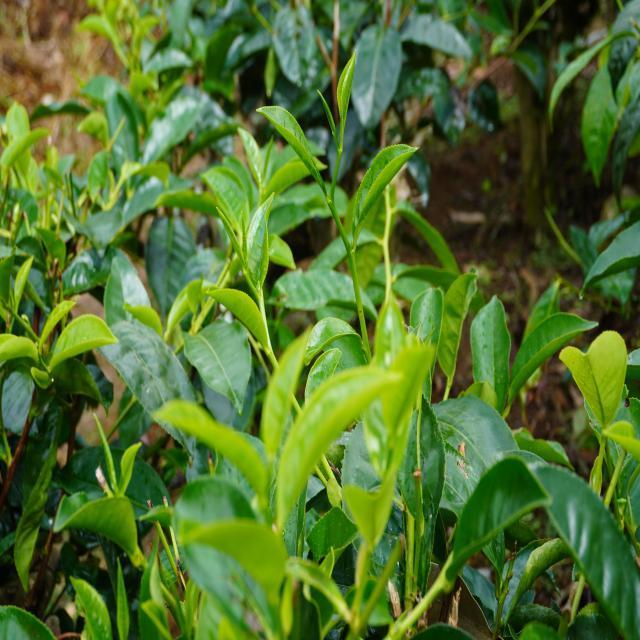Stem: (329, 200, 334, 208)
